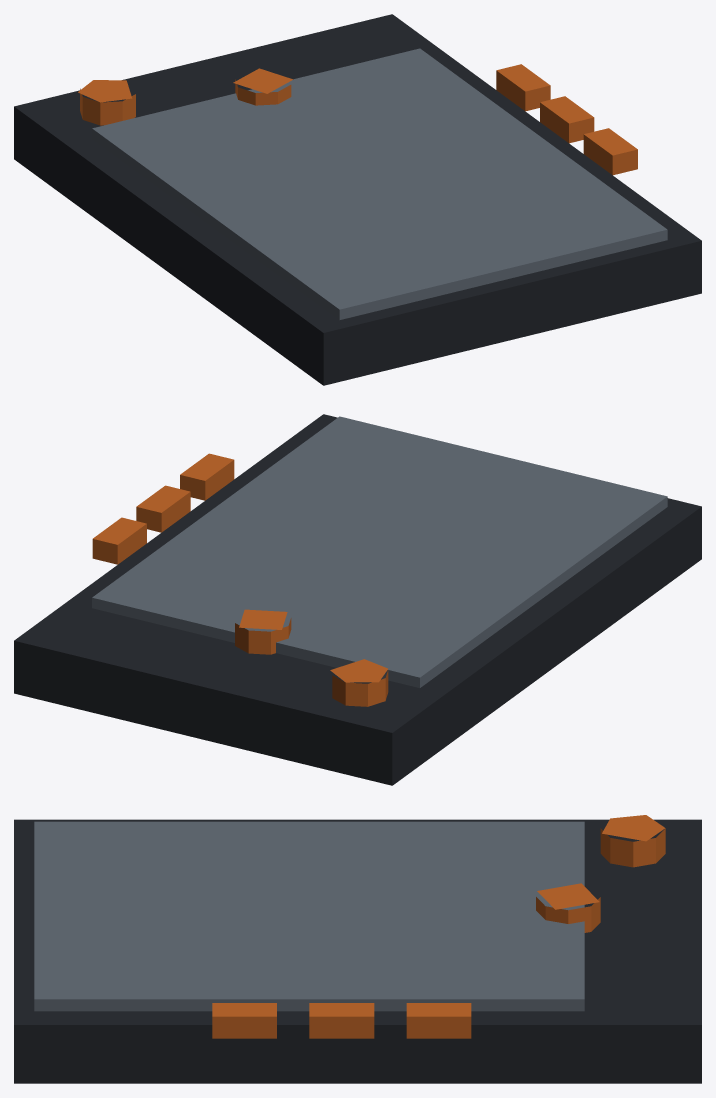
The model's file is datapad.lod.glb.
3 views of the same model, one above another, from view 1: azimuth 30°, elevation 25°; view 2: azimuth 150°, elevation 25°; view 3: azimuth 270°, elevation 25° (orthographic). The views are drawn at different scales.
Parts seen in each view (by area): view 1: m; view 2: m; view 3: m.
Boxes of the visible parts, bbox=[...] form: m: bbox=[14, 14, 701, 385]; m: bbox=[14, 414, 701, 785]; m: bbox=[14, 815, 701, 1083].
Size of the model in its own units: 0.064 by 0.0115 by 0.085.
